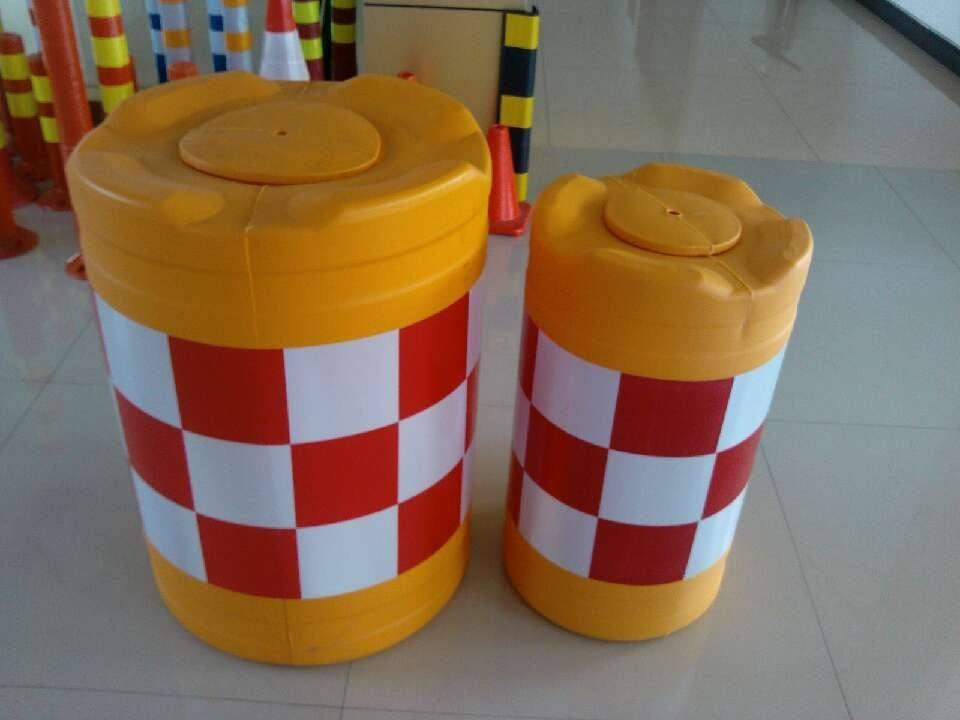sign: (67, 61, 485, 659), (516, 170, 823, 644)
